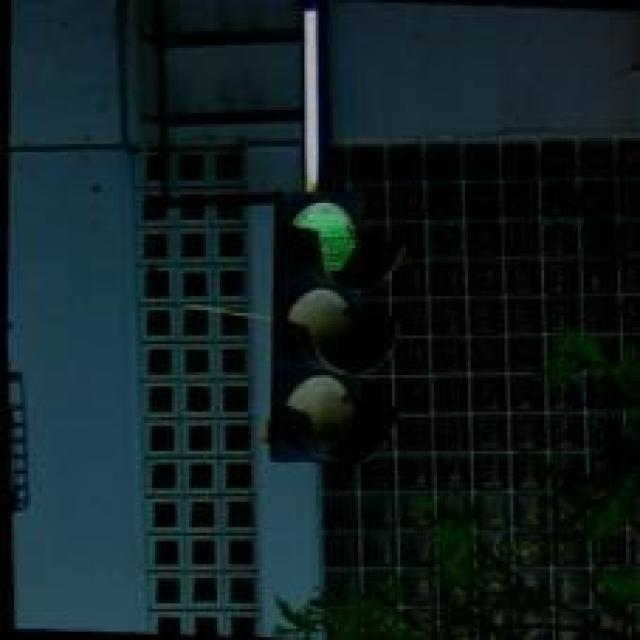green_light: (266, 197, 411, 468)
